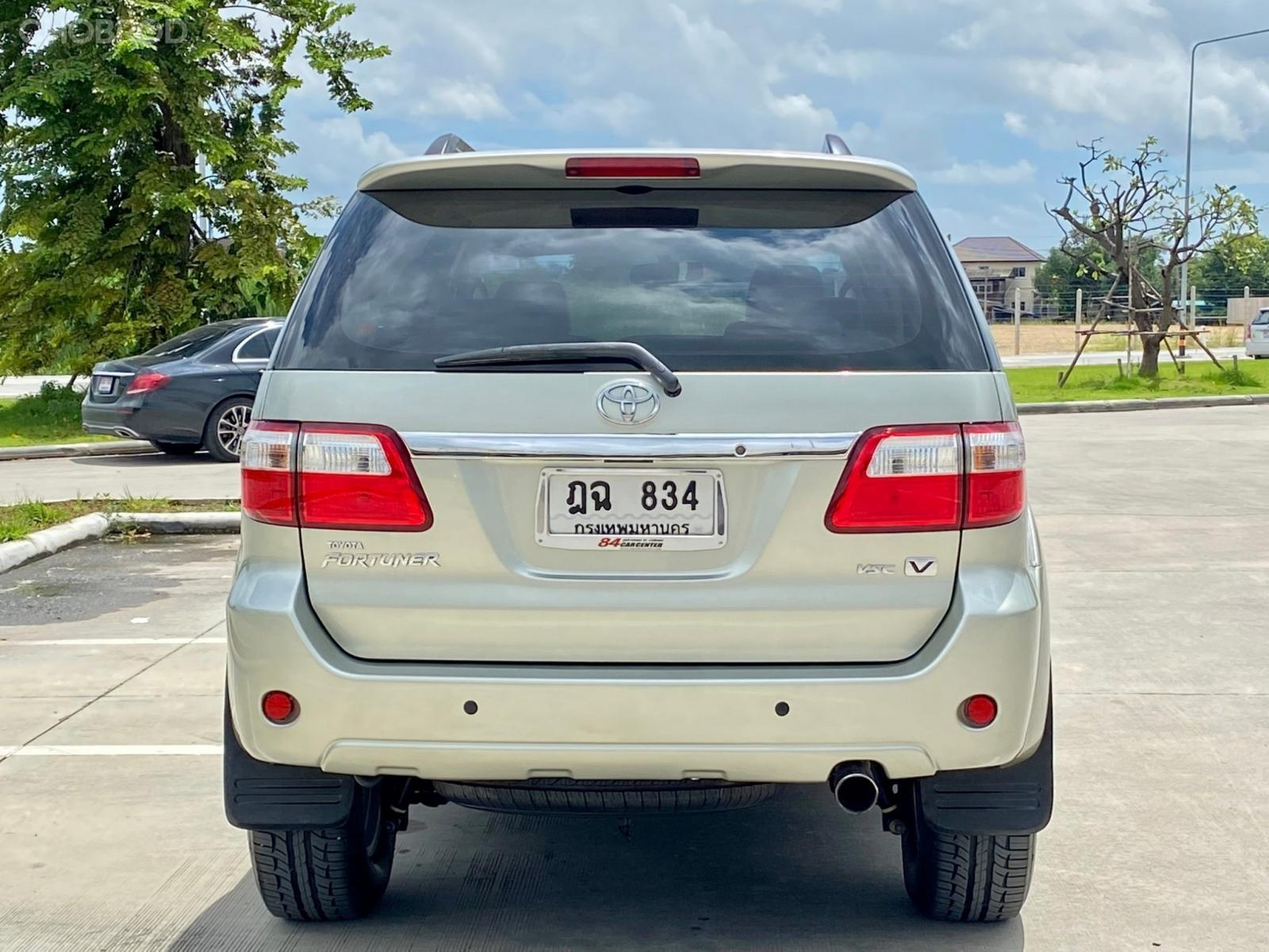license-plate: (532, 455, 734, 558)
